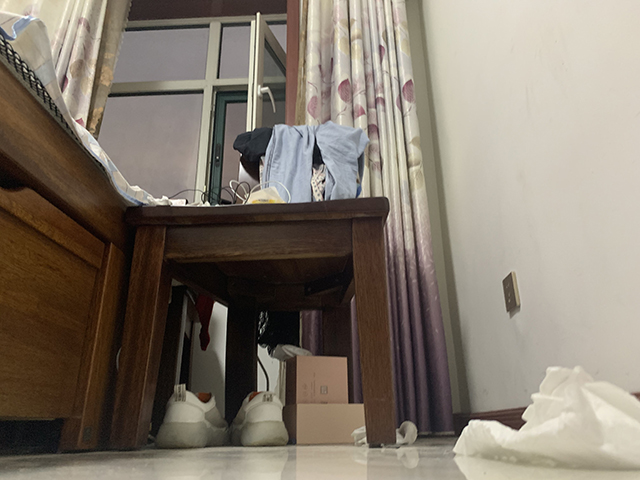curtain: (290, 1, 450, 437)
table: (104, 193, 430, 446)
